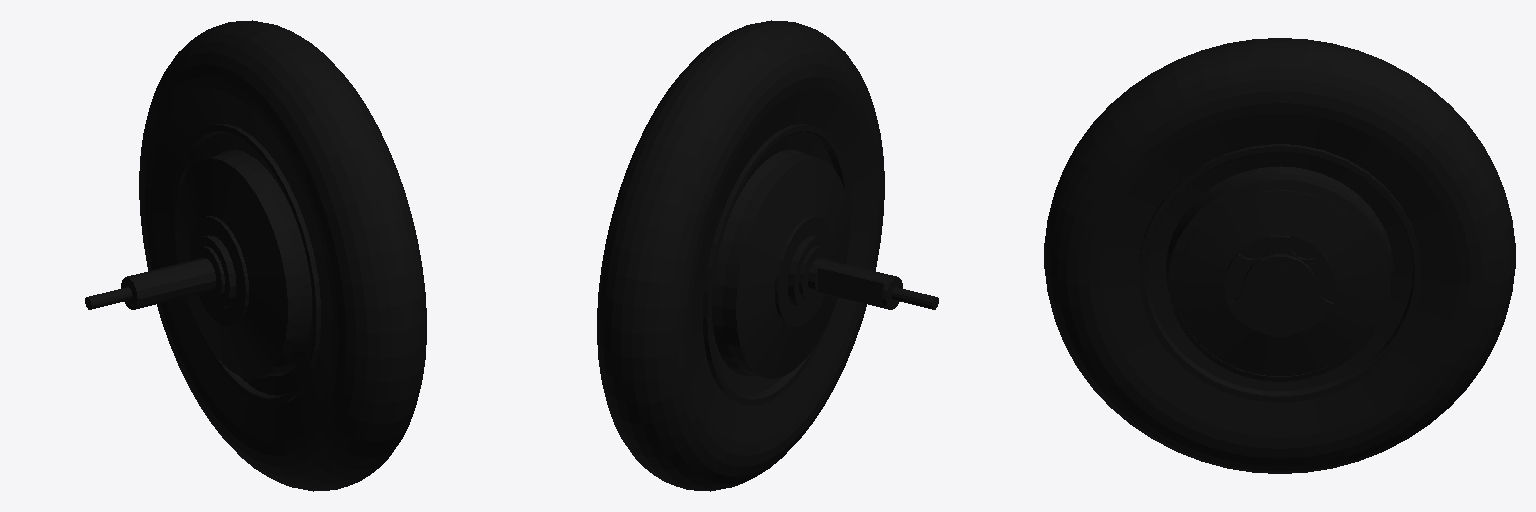
The robot description file, URDF, robot "propbot_model":
<?xml version="1.0" encoding="utf-8"?>
<!-- This URDF was automatically created by SolidWorks to URDF Exporter! Originally created by [author] ([email redacted]) 
     Commit Version: 1.5.1-0-g916b5db  Build Version: 1.5.7152.31018
     For more information, please see http://wiki.ros.org/sw_urdf_exporter -->
<robot
  name="propbot_model">
  <link
    name="base_link">
    <inertial>
      <origin
        xyz="4.95218820890092E-14 -8.48546876064446E-13 0.00290960833133145"
        rpy="0 0 0" />
      <mass
        value="0.962679505363189" />
      <inertia
        ixx="0.0833198554697182"
        ixy="-1.88264725669229E-14"
        ixz="2.52707604556368E-19"
        iyy="0.00390500151848884"
        iyz="7.03941797638526E-19"
        izz="0.0872183891998224" />
    </inertial>
    <visual>
      <origin
        xyz="0 0 0"
        rpy="0 0 0" />
      <geometry>
        <mesh
          filename="package://propbot_model/meshes/base_link.STL" />
      </geometry>
      <material
        name="">
        <color
          rgba="0.792156862745098 0.819607843137255 0.933333333333333 1" />
      </material>
    </visual>
    <collision>
      <origin
        xyz="0 0 0"
        rpy="0 0 0" />
      <geometry>
        <mesh
          filename="package://propbot_model/meshes/base_link.STL" />
      </geometry>
    </collision>
  </link>
  <link
    name="base_link_to_main_frame">
    <inertial>
      <origin
        xyz="-0.00496155771438296 0.106799169308496 0.422430478496276"
        rpy="0 0 0" />
      <mass
        value="19.5224637441654" />
      <inertia
        ixx="0.422262141846948"
        ixy="0.000284153906144455"
        ixz="-0.000121491558893702"
        iyy="0.469729182496518"
        iyz="0.000168179565731358"
        izz="0.162384348770874" />
    </inertial>
    <visual>
      <origin
        xyz="0 0 0"
        rpy="0 0 0" />
      <geometry>
        <mesh
          filename="package://propbot_model/meshes/base_link_to_main_frame.STL" />
      </geometry>
      <material
        name="">
        <color
          rgba="1 0 0 1" />
      </material>
    </visual>
    <collision>
      <origin
        xyz="0 0 0"
        rpy="0 0 0" />
      <geometry>
        <mesh
          filename="package://propbot_model/meshes/base_link_to_main_frame.STL" />
      </geometry>
    </collision>
  </link>
  <joint
    name="main_frame"
    type="fixed">
    <origin
      xyz="0 0.45 -0.000270761367234723"
      rpy="1.5707963267949 0 0" />
    <parent
      link="base_link" />
    <child
      link="base_link_to_main_frame" />
    <axis
      xyz="0 0 0" />
  </joint>
  <link
    name="base_to_right_front_wheel">
    <inertial>
      <origin
        xyz="0.000353218204334815 1.49654594272519E-14 -3.3080417334852E-06"
        rpy="0 0 0" />
      <mass
        value="2.9654201869257" />
      <inertia
        ixx="0.0187458318918593"
        ixy="1.05441040594404E-15"
        ixz="6.83080846647317E-07"
        iyy="0.0101188924668576"
        iyz="-4.64239151497712E-08"
        izz="0.0101188143745007" />
    </inertial>
    <visual>
      <origin
        xyz="0 0 0"
        rpy="0 0 0" />
      <geometry>
        <mesh
          filename="package://propbot_model/meshes/base_to_right_front_wheel.STL" />
      </geometry>
      <material
        name="">
        <color
          rgba="0.109803921568627 0.109803921568627 0.109803921568627 1" />
      </material>
    </visual>
    <collision>
      <origin
        xyz="0 0 0"
        rpy="0 0 0" />
      <geometry>
        <mesh
          filename="package://propbot_model/meshes/base_to_right_front_wheel.STL" />
      </geometry>
    </collision>
  </link>
  <joint
    name="right_front_wheel"
    type="revolute">
    <origin
      xyz="0.45984 0.015032 0.05"
      rpy="3.1416 0 3.1416" />
    <parent
      link="base_link_to_main_frame" />
    <child
      link="base_to_right_front_wheel" />
    <axis
      xyz="0 0 0" />
    <limit
      lower="0"
      upper="0"
      effort="0"
      velocity="0" />
  </joint>
  <!-- <link
    name="base_to_right_middle_wheel">
    <inertial>
      <origin
        xyz="0.000353218204334871 1.49654594272519E-14 -3.30804173355509E-06"
        rpy="0 0 0" />
      <mass
        value="2.9654201869257" />
      <inertia
        ixx="0.0187458318918593"
        ixy="1.05463798889347E-15"
        ixz="6.83080846648007E-07"
        iyy="0.0101188924668576"
        iyz="-4.64239151473157E-08"
        izz="0.0101188143745007" />
    </inertial>
    <visual>
      <origin
        xyz="0 0 0"
        rpy="0 0 0" />
      <geometry>
        <mesh
          filename="package://propbot_model/meshes/base_to_right_middle_wheel.STL" />
      </geometry>
      <material
        name="">
        <color
          rgba="0.109803921568627 0.109803921568627 0.109803921568627 1" />
      </material>
    </visual>
    <collision>
      <origin
        xyz="0 0 0"
        rpy="0 0 0" />
      <geometry>
        <mesh
          filename="package://propbot_model/meshes/base_to_right_middle_wheel.STL" />
      </geometry>
    </collision>
  </link>
  <joint
    name="right_middle_wheel"
    type="revolute">
    <origin
      xyz="0.45984 0.015032 0.45"
      rpy="3.1416 0 3.1416" />
    <parent
      link="base_link_to_main_frame" />
    <child
      link="base_to_right_middle_wheel" />
    <axis
      xyz="0 0 0" />
    <limit
      lower="0"
      upper="0"
      effort="0"
      velocity="0" />
  </joint>
  <link
    name="base_to_right_back_wheel">
    <inertial>
      <origin
        xyz="0.000353218204334815 1.49515816394441E-14 -3.3080417334852E-06"
        rpy="0 0 0" />
      <mass
        value="2.9654201869257" />
      <inertia
        ixx="0.0187458318918593"
        ixy="1.05487522045234E-15"
        ixz="6.83080846648002E-07"
        iyy="0.0101188924668576"
        iyz="-4.64239151471001E-08"
        izz="0.0101188143745007" />
    </inertial>
    <visual>
      <origin
        xyz="0 0 0"
        rpy="0 0 0" />
      <geometry>
        <mesh
          filename="package://propbot_model/meshes/base_to_right_back_wheel.STL" />
      </geometry>
      <material
        name="">
        <color
          rgba="0.109803921568627 0.109803921568627 0.109803921568627 1" />
      </material>
    </visual>
    <collision>
      <origin
        xyz="0 0 0"
        rpy="0 0 0" />
      <geometry>
        <mesh
          filename="package://propbot_model/meshes/base_to_right_back_wheel.STL" />
      </geometry>
    </collision>
  </link>
  <joint
    name="right_back_wheel"
    type="revolute">
    <origin
      xyz="0.45984 0.015032 0.85"
      rpy="3.1416 0 3.1416" />
    <parent
      link="base_link_to_main_frame" />
    <child
      link="base_to_right_back_wheel" />
    <axis
      xyz="0 0 0" />
    <limit
      lower="0"
      upper="0"
      effort="0"
      velocity="0" />
  </joint>
  <link
    name="base_to_left_front_wheel">
    <inertial>
      <origin
        xyz="0.000353218204334815 1.49723983211558E-14 -3.30804173354071E-06"
        rpy="0 0 0" />
      <mass
        value="2.9654201869257" />
      <inertia
        ixx="0.0187458318918593"
        ixy="1.05566480354607E-15"
        ixz="6.83080846646722E-07"
        iyy="0.0101188924668576"
        iyz="-4.64239151481091E-08"
        izz="0.0101188143745007" />
    </inertial>
    <visual>
      <origin
        xyz="0 0 0"
        rpy="0 0 0" />
      <geometry>
        <mesh
          filename="package://propbot_model/meshes/base_to_left_front_wheel.STL" />
      </geometry>
      <material
        name="">
        <color
          rgba="0.109803921568627 0.109803921568627 0.109803921568627 1" />
      </material>
    </visual>
    <collision>
      <origin
        xyz="0 0 0"
        rpy="0 0 0" />
      <geometry>
        <mesh
          filename="package://propbot_model/meshes/base_to_left_front_wheel.STL" />
      </geometry>
    </collision>
  </link>
  <joint
    name="left_front_wheel"
    type="revolute">
    <origin
      xyz="-0.45996 -0.0076 0.05"
      rpy="0 0 0" />
    <parent
      link="base_link_to_main_frame" />
    <child
      link="base_to_left_front_wheel" />
    <axis
      xyz="0 0 0" />
    <limit
      lower="0"
      upper="0"
      effort="0"
      velocity="0" />
  </joint>
  <link
    name="base_to_left_middle_wheel">
    <inertial>
      <origin
        xyz="0.00035321820433476 1.49793372150597E-14 -3.30804173353209E-06"
        rpy="0 0 0" />
      <mass
        value="2.9654201869257" />
      <inertia
        ixx="0.0187458318918593"
        ixy="1.05456887700731E-15"
        ixz="6.83080846648231E-07"
        iyy="0.0101188924668576"
        iyz="-4.64239151484789E-08"
        izz="0.0101188143745007" />
    </inertial>
    <visual>
      <origin
        xyz="0 0 0"
        rpy="0 0 0" />
      <geometry>
        <mesh
          filename="package://propbot_model/meshes/base_to_left_middle_wheel.STL" />
      </geometry>
      <material
        name="">
        <color
          rgba="0.109803921568627 0.109803921568627 0.109803921568627 1" />
      </material>
    </visual>
    <collision>
      <origin
        xyz="0 0 0"
        rpy="0 0 0" />
      <geometry>
        <mesh
          filename="package://propbot_model/meshes/base_to_left_middle_wheel.STL" />
      </geometry>
    </collision>
  </link>
  <joint
    name="left_middle_wheel"
    type="revolute">
    <origin
      xyz="-0.45996 0.0155 0.45"
      rpy="0 0 0" />
    <parent
      link="base_link_to_main_frame" />
    <child
      link="base_to_left_middle_wheel" />
    <axis
      xyz="0 0 0" />
    <limit
      lower="0"
      upper="0"
      effort="0"
      velocity="0" />
  </joint>
  <link
    name="base_to_left_back_wheel">
    <inertial>
      <origin
        xyz="0.000353218204334815 1.49845413854877E-14 -3.3080417334852E-06"
        rpy="0 0 0" />
      <mass
        value="2.9654201869257" />
      <inertia
        ixx="0.0187458318918593"
        ixy="1.05506916013193E-15"
        ixz="6.83080846647518E-07"
        iyy="0.0101188924668576"
        iyz="-4.64239151500435E-08"
        izz="0.0101188143745007" />
    </inertial>
    <visual>
      <origin
        xyz="0 0 0"
        rpy="0 0 0" />
      <geometry>
        <mesh
          filename="package://propbot_model/meshes/base_to_left_back_wheel.STL" />
      </geometry>
      <material
        name="">
        <color
          rgba="0.109803921568627 0.109803921568627 0.109803921568627 1" />
      </material>
    </visual>
    <collision>
      <origin
        xyz="0 0 0"
        rpy="0 0 0" />
      <geometry>
        <mesh
          filename="package://propbot_model/meshes/base_to_left_back_wheel.STL" />
      </geometry>
    </collision>
  </link>
  <joint
    name="left_back_wheel"
    type="revolute">
    <origin
      xyz="-0.45996 0.0155 0.85"
      rpy="0 0 0" />
    <parent
      link="base_link_to_main_frame" />
    <child
      link="base_to_left_back_wheel" />
    <axis
      xyz="0 0 0" />
    <limit
      lower="0"
      upper="0"
      effort="0"
      velocity="0" />
  </joint> -->
</robot>

--- Render facts (derived) ---
Views: 3 orthographic renders of the robot side by side, from view 1: azimuth 30°, elevation 25°; view 2: azimuth 150°, elevation 25°; view 3: azimuth 270°, elevation 25°.
Robot: propbot_model — 3 links, 2 joints (1 revolute, 1 fixed); root link base_link; default pose: every joint at zero.
Links seen in each view (by area): view 1: base_to_right_front_wheel; view 2: base_to_right_front_wheel; view 3: base_to_right_front_wheel.
Link boxes in pixels (left/top/right/bottom): base_to_right_front_wheel: left=85, top=20, right=426, bottom=491; base_to_right_front_wheel: left=597, top=20, right=938, bottom=491; base_to_right_front_wheel: left=1044, top=38, right=1515, bottom=473.
Bounding box of the posed robot: 0.1628 × 0.2536 × 0.254 m (x, y, z).
Meshes: 3 distinct files referenced, 1 mesh visuals loaded (1 binary STL); not drawn: 2 (reference not matched to a file when rendering).